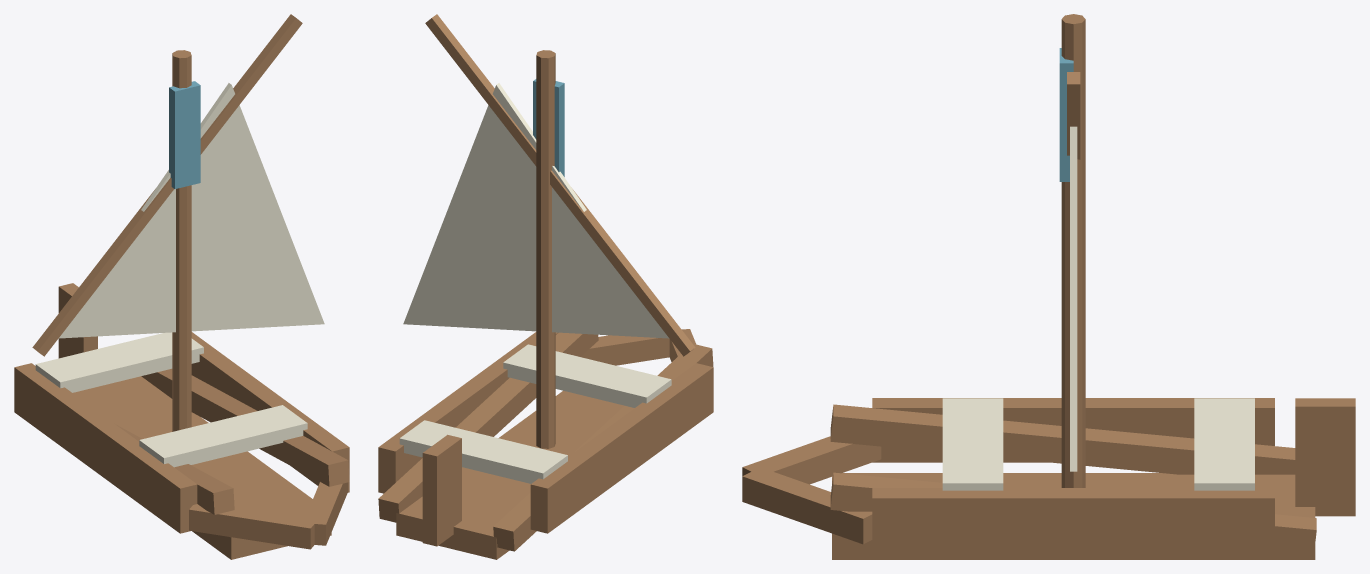
The picture shows the model from 3 angles, left to right: view 1: azimuth 30°, elevation 25°; view 2: azimuth 150°, elevation 25°; view 3: azimuth 270°, elevation 25°; orthographic projection. The views are drawn at different scales.
Parts seen in each view (by area): view 1: tidal-observatory-sail-skiff; view 2: tidal-observatory-sail-skiff; view 3: tidal-observatory-sail-skiff.
Boxes of the visible parts, x1,y1,x2,y2 form: tidal-observatory-sail-skiff: (14,14,349,559); tidal-observatory-sail-skiff: (378,14,713,559); tidal-observatory-sail-skiff: (742,14,1355,559).
Size of the model in its own units: 2.01 by 2.87 by 3.04.
